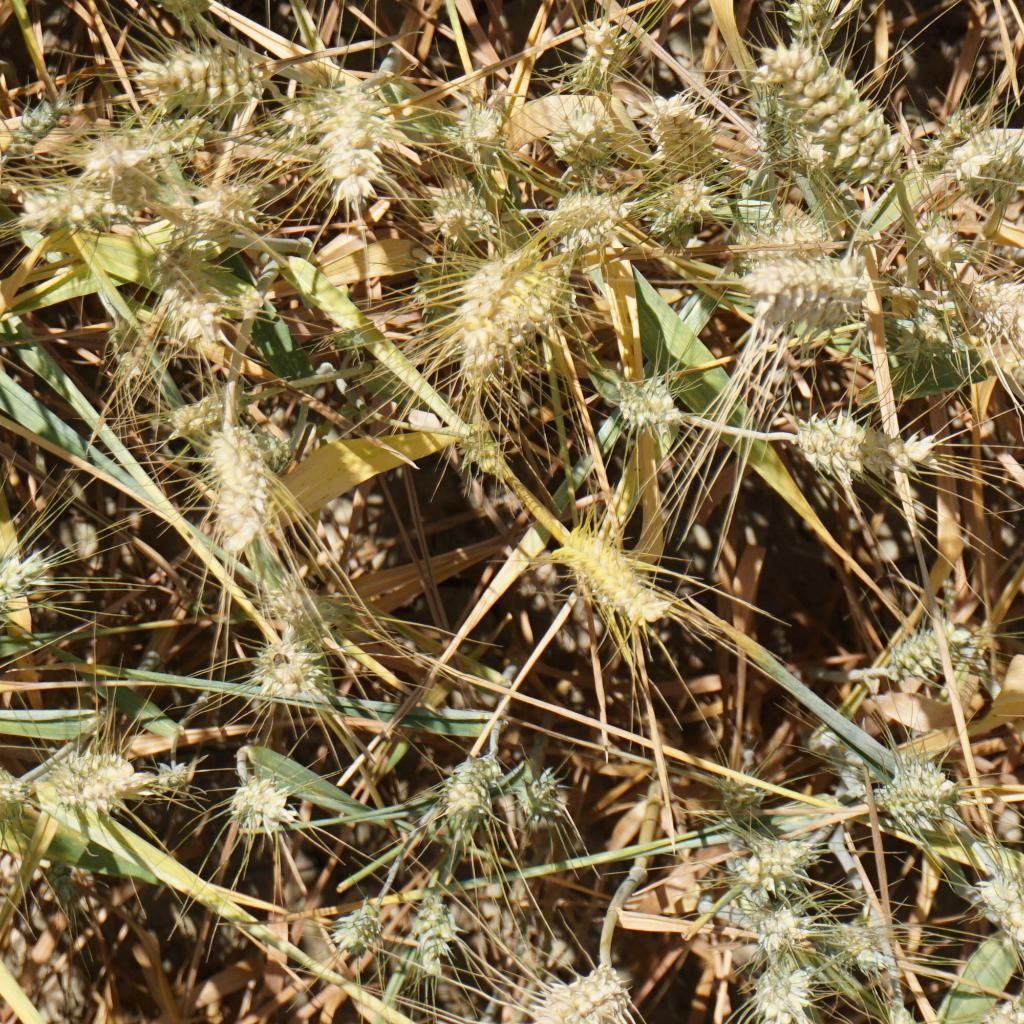0-0: (290, 82, 418, 214), (540, 513, 678, 632), (451, 242, 558, 369), (769, 54, 888, 156), (721, 262, 871, 334), (189, 422, 275, 545), (788, 415, 932, 486), (521, 950, 640, 1024), (141, 34, 259, 107), (872, 612, 982, 687), (91, 112, 233, 170), (39, 749, 153, 820), (870, 753, 969, 833), (0, 546, 72, 653), (168, 176, 256, 259), (724, 210, 844, 270), (152, 271, 239, 350), (252, 635, 343, 709), (67, 144, 158, 217), (633, 97, 724, 169), (252, 569, 350, 635), (0, 86, 86, 161), (701, 748, 780, 822), (733, 84, 814, 155), (730, 829, 817, 894), (899, 299, 971, 377), (627, 173, 713, 238), (10, 179, 117, 231), (548, 182, 622, 257), (408, 900, 473, 985), (553, 115, 627, 189), (447, 78, 519, 150), (614, 367, 685, 438), (227, 417, 311, 476), (432, 758, 497, 834), (224, 774, 301, 838), (429, 186, 501, 252), (910, 102, 972, 174), (968, 858, 1024, 936), (820, 913, 891, 972), (963, 142, 1024, 209), (329, 891, 382, 966), (567, 24, 636, 81), (913, 210, 972, 275), (750, 896, 819, 951), (742, 959, 814, 1011), (448, 424, 514, 477), (108, 0, 218, 30), (169, 387, 228, 442), (518, 775, 573, 831), (0, 758, 40, 829), (787, 0, 846, 46), (317, 318, 374, 360), (978, 286, 1024, 335), (151, 760, 197, 805)
